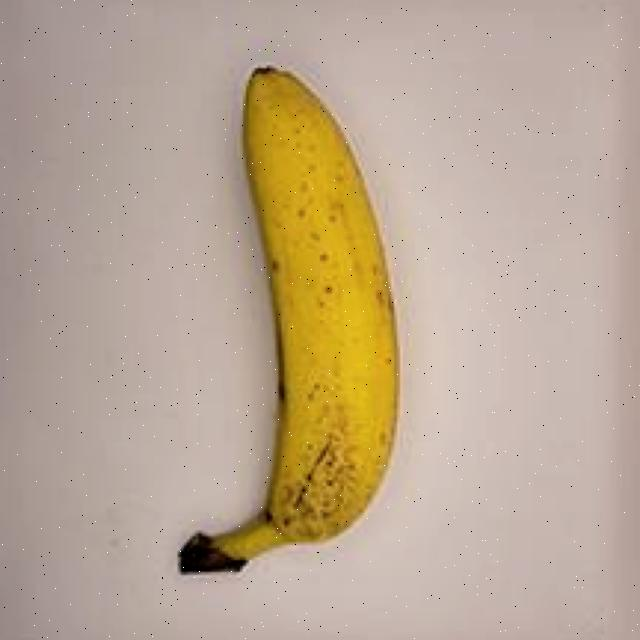Overripe: (115, 33, 427, 606)
